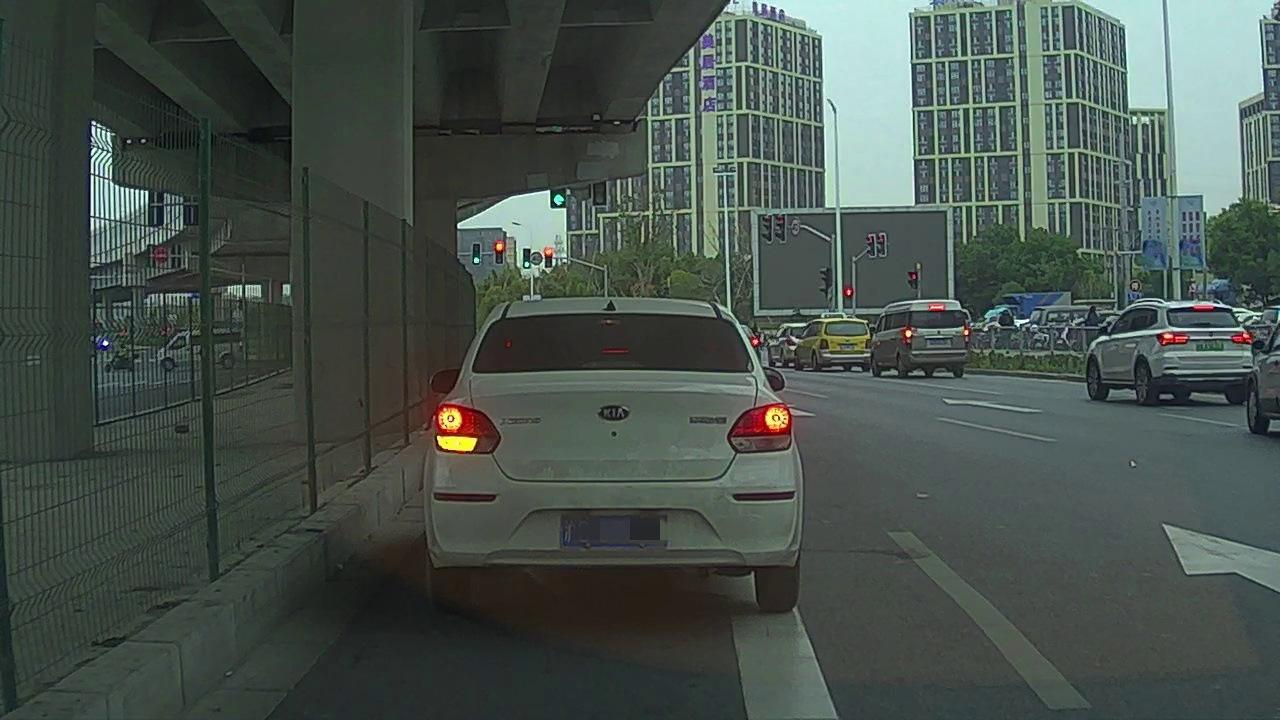traffic_light: (552, 187, 566, 206), (594, 183, 606, 205)
